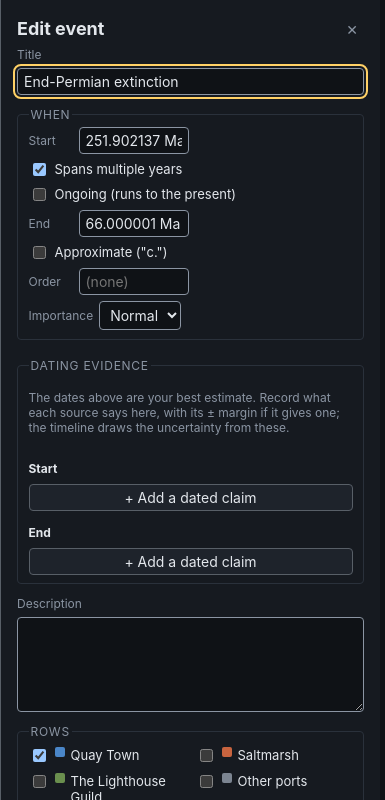
Test: deep-time event editor › an event's own start and end reject a ± (it would be dropped), and a ± without a unit asks for one
Replace the text in the field labelled "Start" with "66 Ma ± 500 ka": (134, 140) [78,127,188,154]
(page scrolled)
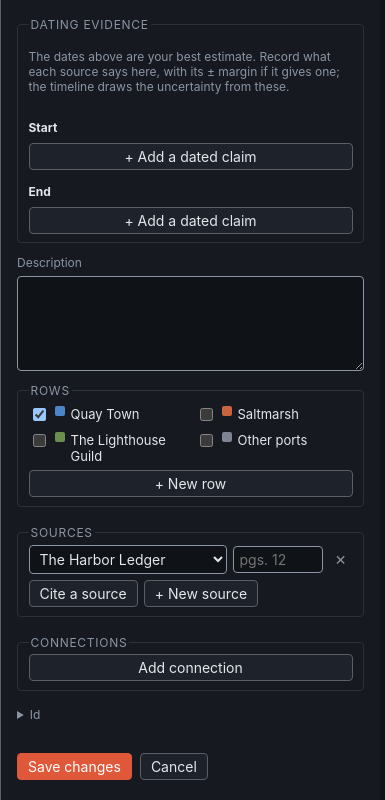
Click the button "Save changes": (74, 767) [17,753,132,780]
(page scrolled)
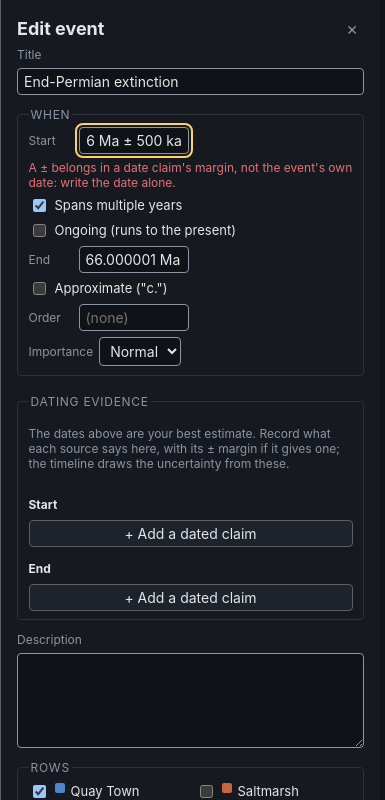
Expected: the message shows "± belongs in a date claim", [28,160,352,190]
Replace the text in the field labelled "Start" with "66 Ma ± 500": (134, 140) [78,127,188,154]
(page scrolled)
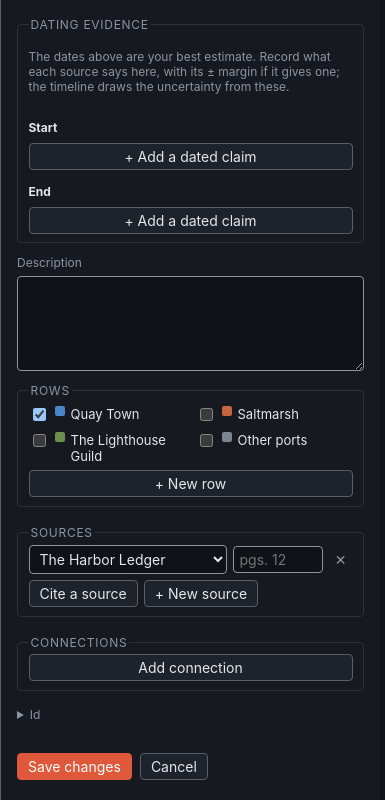
Click the button "Save changes": (74, 767) [17,753,132,780]
(page scrolled)
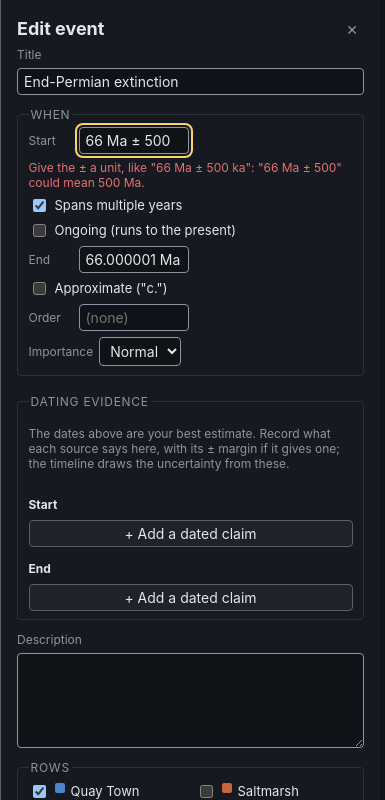
Expected: the message shows "Give the ± a unit", [28,160,342,190]
